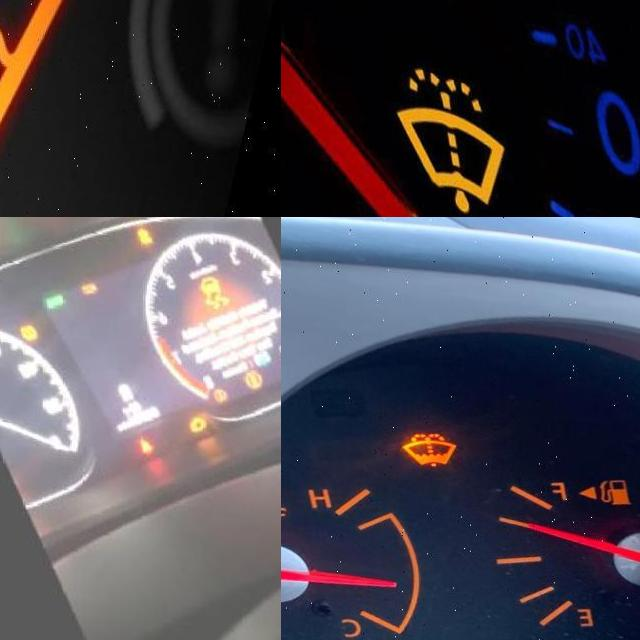Washer Fluid: (396, 58, 502, 203), (0, 0, 73, 177), (402, 414, 463, 465)
